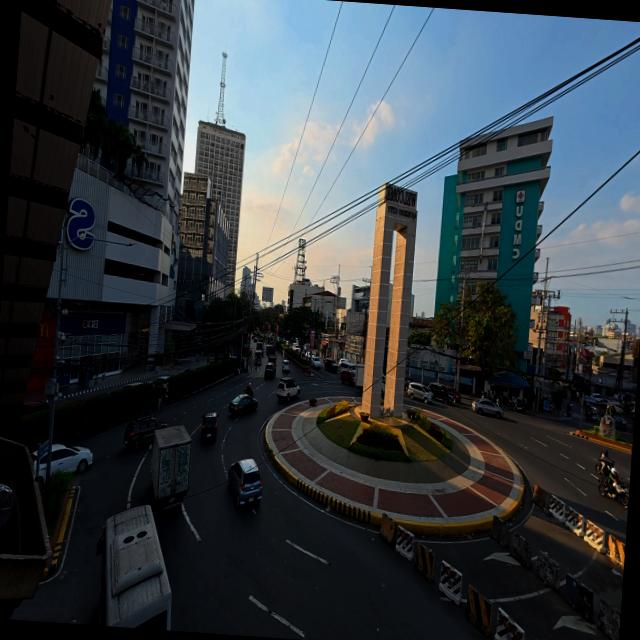bus: (97, 505, 171, 630)
car: (227, 459, 261, 507), (123, 414, 166, 451), (50, 444, 92, 473), (228, 394, 257, 416), (427, 382, 454, 404), (275, 377, 299, 401), (406, 382, 433, 403), (471, 399, 502, 417), (200, 412, 217, 440), (21, 400, 48, 415), (630, 436, 640, 466), (444, 386, 460, 403), (340, 369, 355, 386), (152, 376, 168, 390), (337, 359, 353, 371), (263, 363, 275, 378), (120, 382, 142, 390), (324, 359, 337, 372), (310, 356, 320, 369), (281, 360, 289, 372), (291, 343, 299, 353), (303, 352, 309, 359)
motorcycle: (597, 478, 628, 508), (595, 451, 613, 477), (512, 400, 524, 413), (243, 385, 252, 396), (566, 402, 572, 417)
trucks: (150, 426, 190, 510), (355, 364, 363, 390), (266, 344, 275, 362)
vans: (338, 360, 354, 376)
